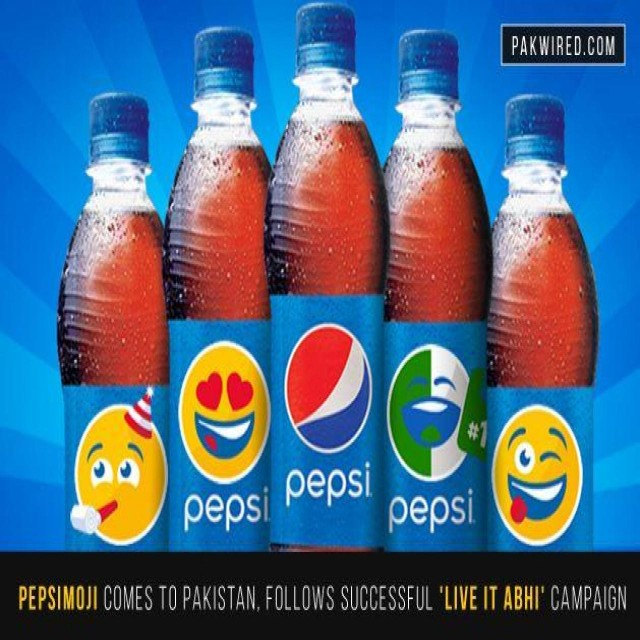pepsi: (284, 323, 374, 453)
